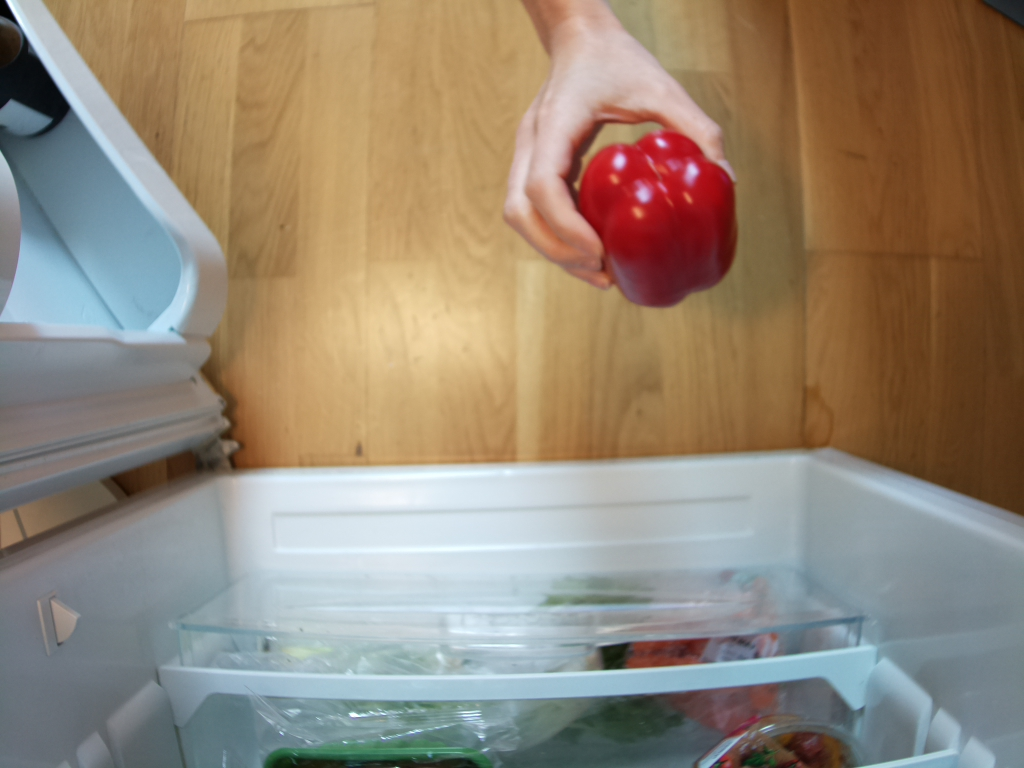pepper: (575, 129, 738, 312)
